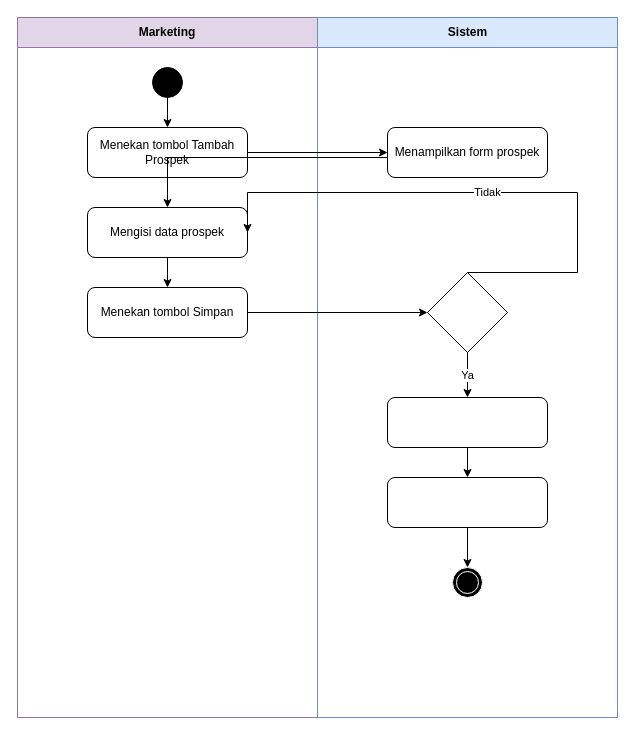
The diagram is 635 pixels wide and 735 high, and some of its shapes have lost their labels. The centre of each missing label's shape, as x and y in pixels:
"Data Valid?" belongs at pixel 467 312.
"Menampilkan pesan sukses" belongs at pixel 467 502.
"Menyimpan data" belongs at pixel 467 422.
